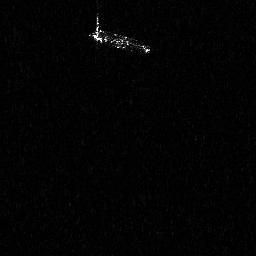ship: (86, 11, 151, 54)
